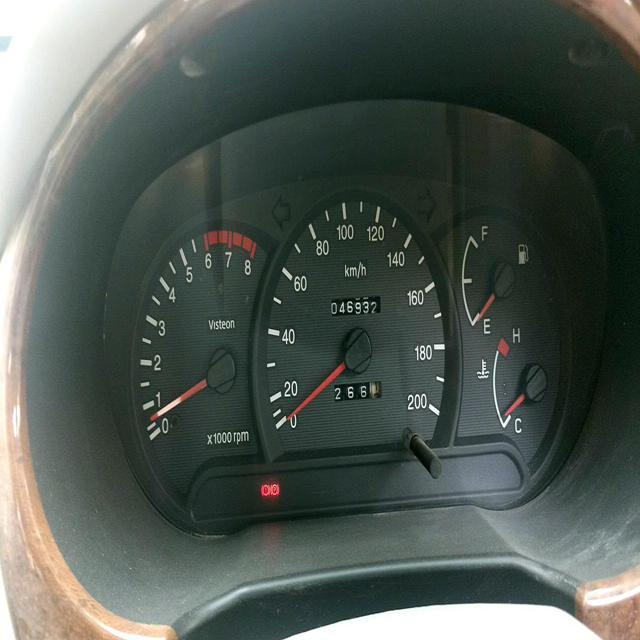odometer: (327, 289, 383, 320)
